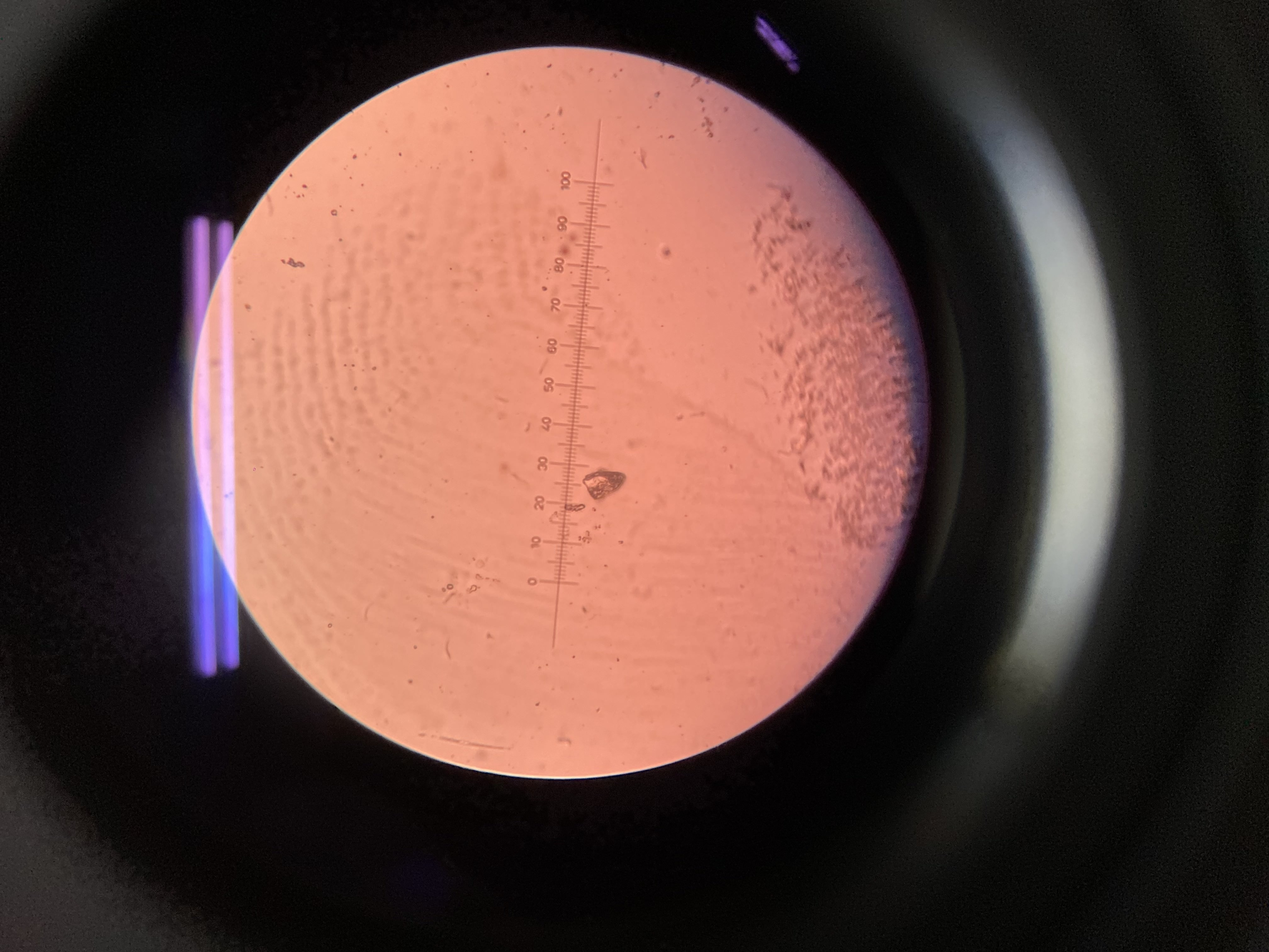microplastic: (750, 183, 928, 541), (578, 472, 629, 496), (699, 94, 718, 144), (634, 144, 655, 171), (284, 255, 306, 270), (445, 637, 458, 662), (661, 240, 676, 260), (444, 579, 459, 591), (568, 501, 585, 511), (328, 209, 342, 219), (469, 586, 481, 592)
